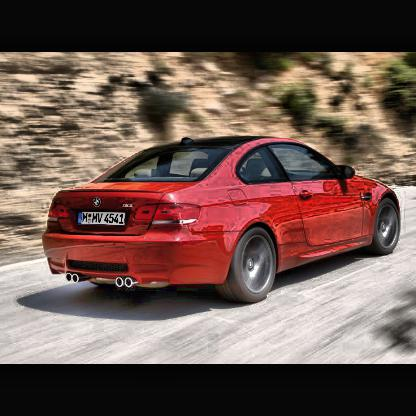BMW M3 Coupe 2012: (42, 137, 401, 306)
